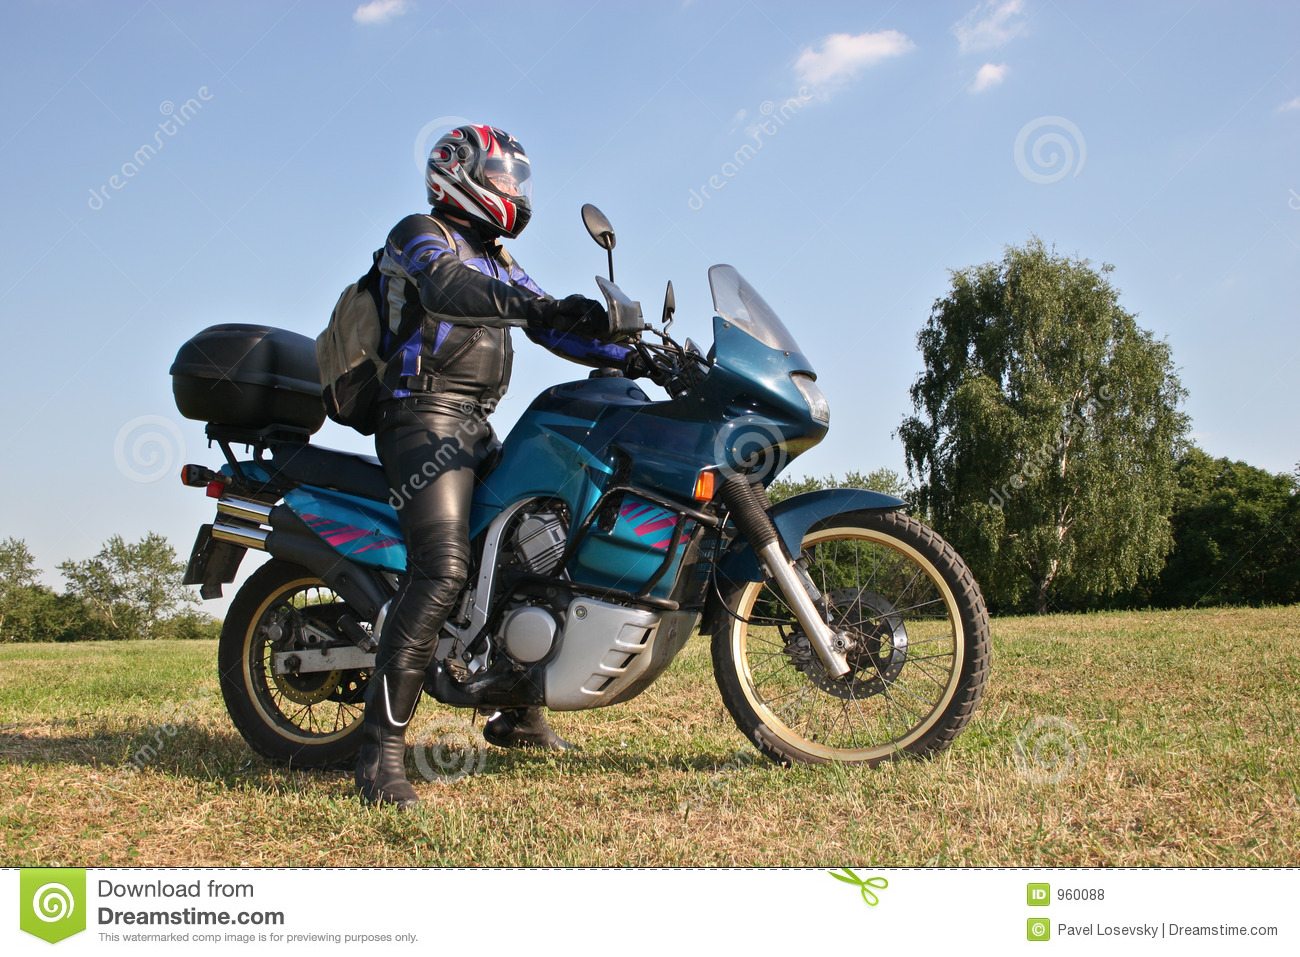helmet: (428, 116, 527, 233)
